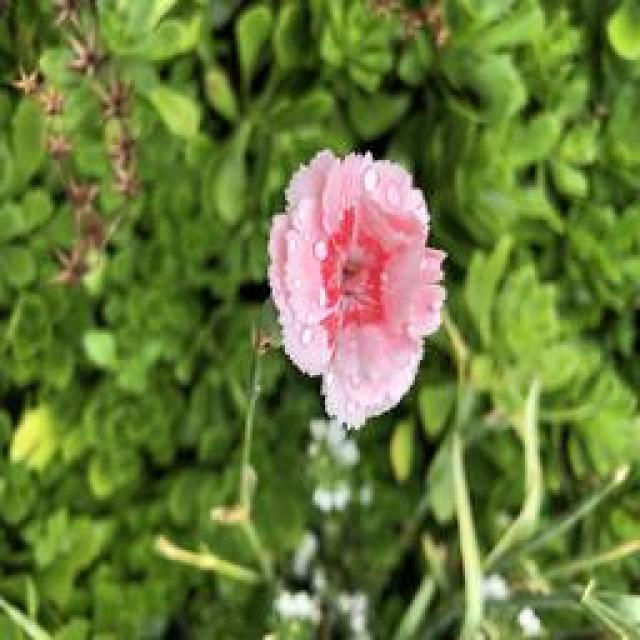carnation: (258, 137, 458, 414)
